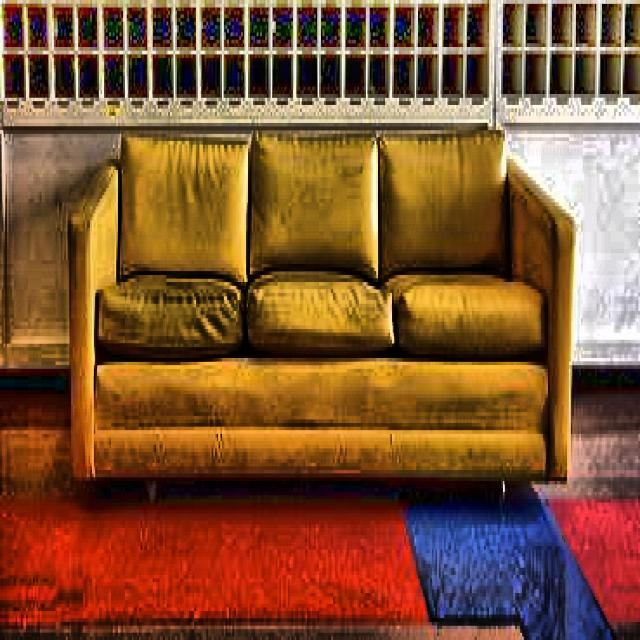sofa: (68, 130, 574, 485)
